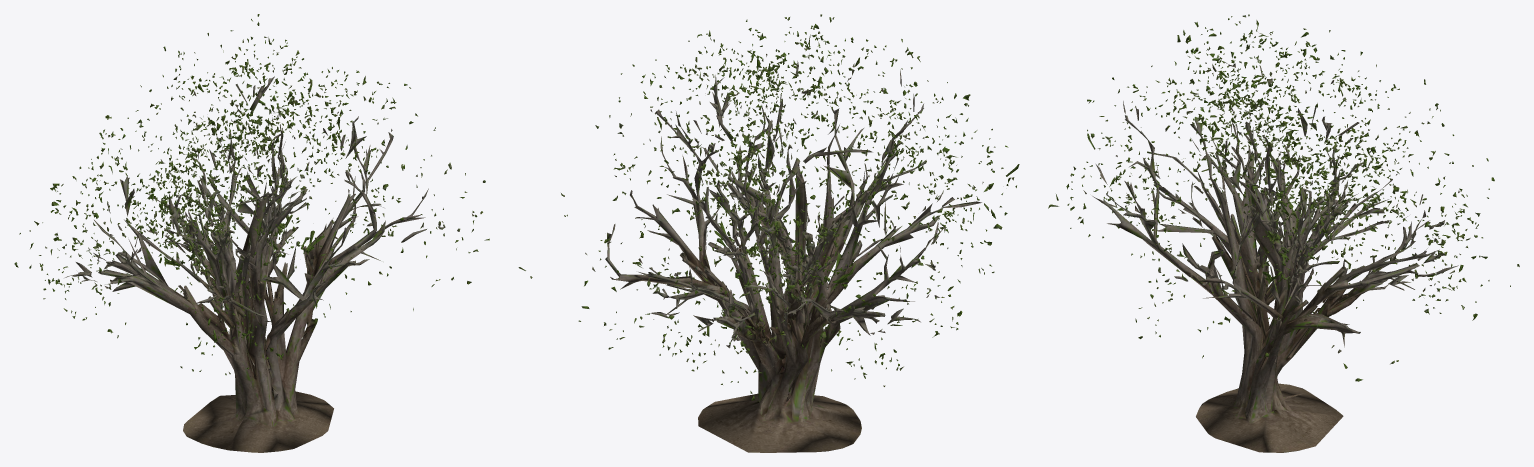
File: tree_oliv.glb
3 views of the same model, side by side, from view 1: azimuth 30°, elevation 25°; view 2: azimuth 150°, elevation 25°; view 3: azimuth 270°, elevation 25° (orthographic). The views are drawn at different scales.
Visible parts, largest first — view 1: world; view 2: world; view 3: world.
Part boxes in pixels (left/top/right/bottom): world: left=14, top=14, right=489, bottom=452; world: left=518, top=14, right=1019, bottom=452; world: left=1048, top=14, right=1519, bottom=452.
Bounding box in the file's own units: 0.9325 × 0.8753 × 0.9722.
Materials: 1 (1 with a texture image).
